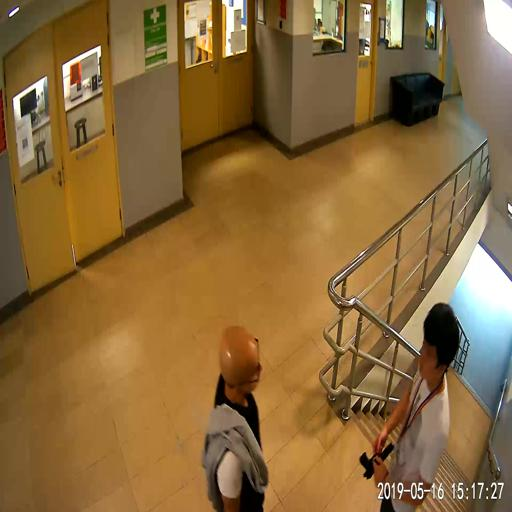pistol: (359, 440, 394, 479)
